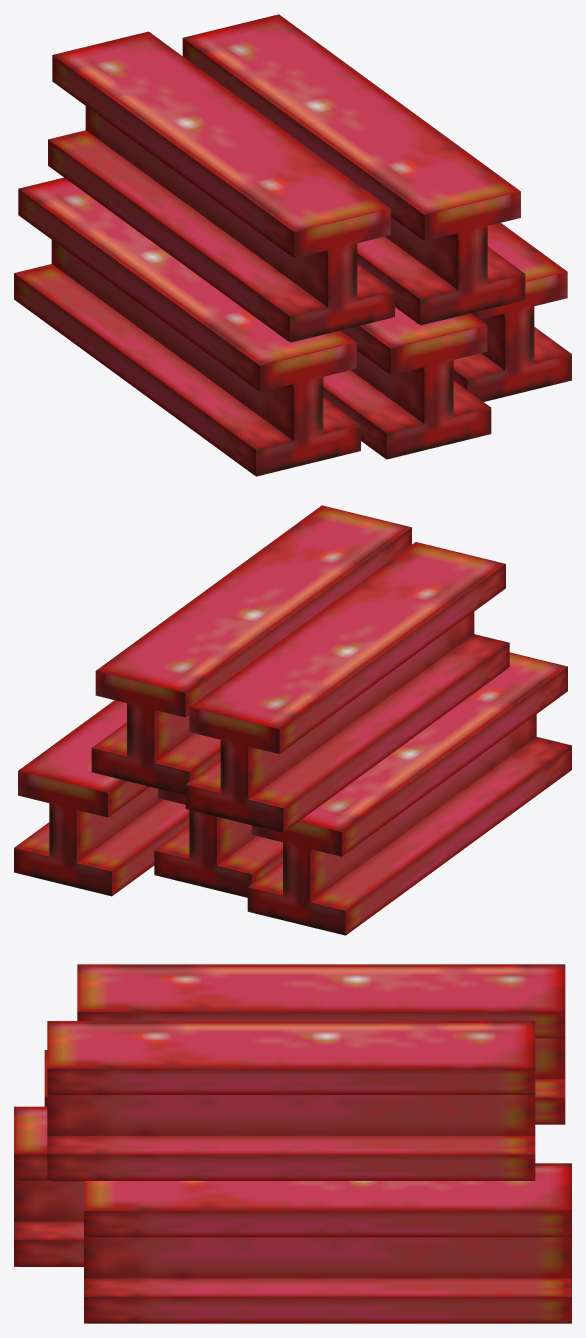
File: Poly_SF_Outside_B_Iron_Materials_01.obj
The picture shows the model from 3 angles, top to bottom: view 1: azimuth 30°, elevation 25°; view 2: azimuth 150°, elevation 25°; view 3: azimuth 270°, elevation 25°; orthographic projection. The views are drawn at different scales.
Parts seen in each view (by area): view 1: Cube.002; view 2: Cube.002; view 3: Cube.002.
Part boxes in pixels (x1,y1,x2,y2): Cube.002: [14, 14, 571, 476]; Cube.002: [14, 505, 571, 935]; Cube.002: [14, 964, 571, 1323].
Bounding box in the file's own units: 0.8 × 0.4995 × 1.14.
Materials: 1 (1 with a texture image).
